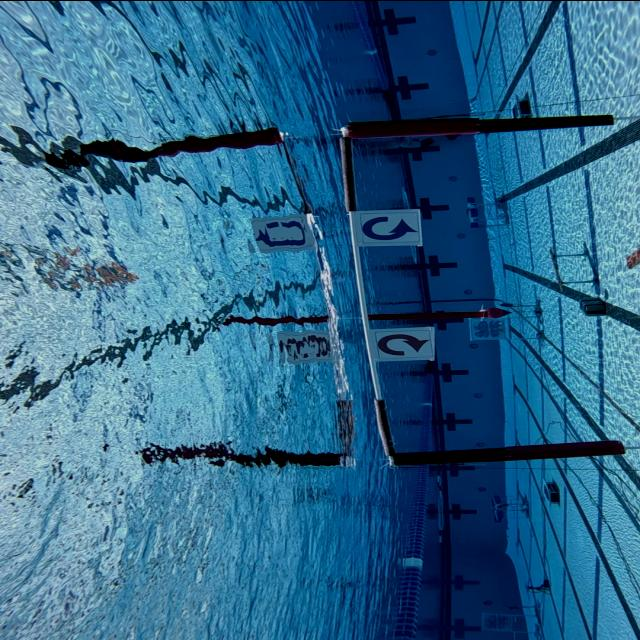blue_side: (356, 207, 424, 245)
red_side: (374, 326, 436, 360)
